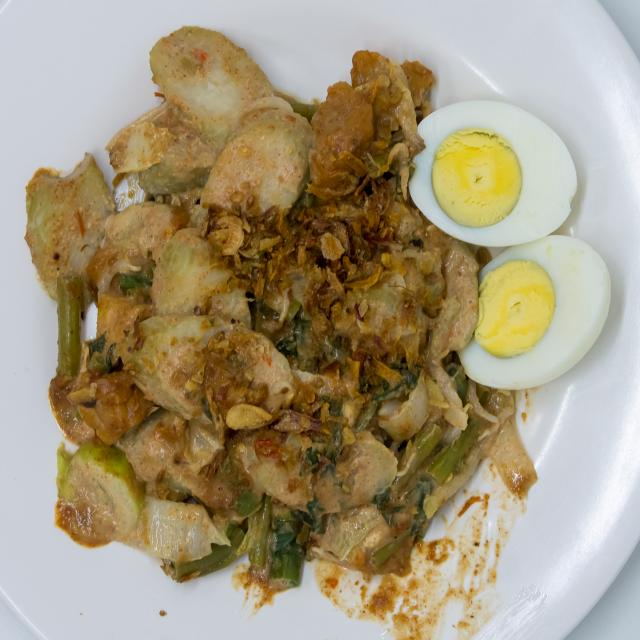Gado-Gado: (19, 12, 628, 608)
